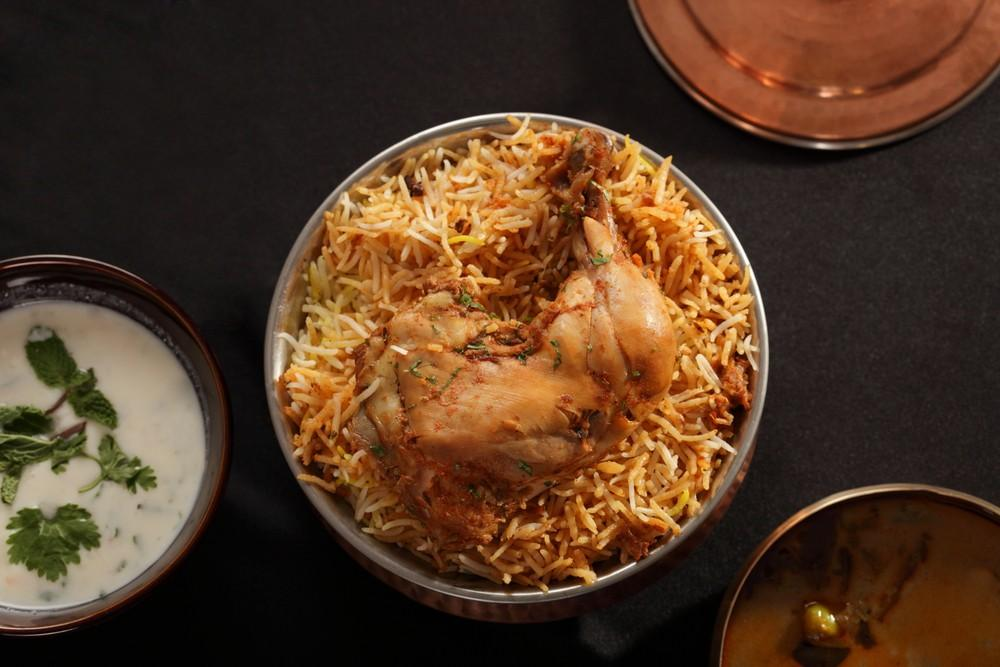Biryani: (273, 117, 757, 587)
